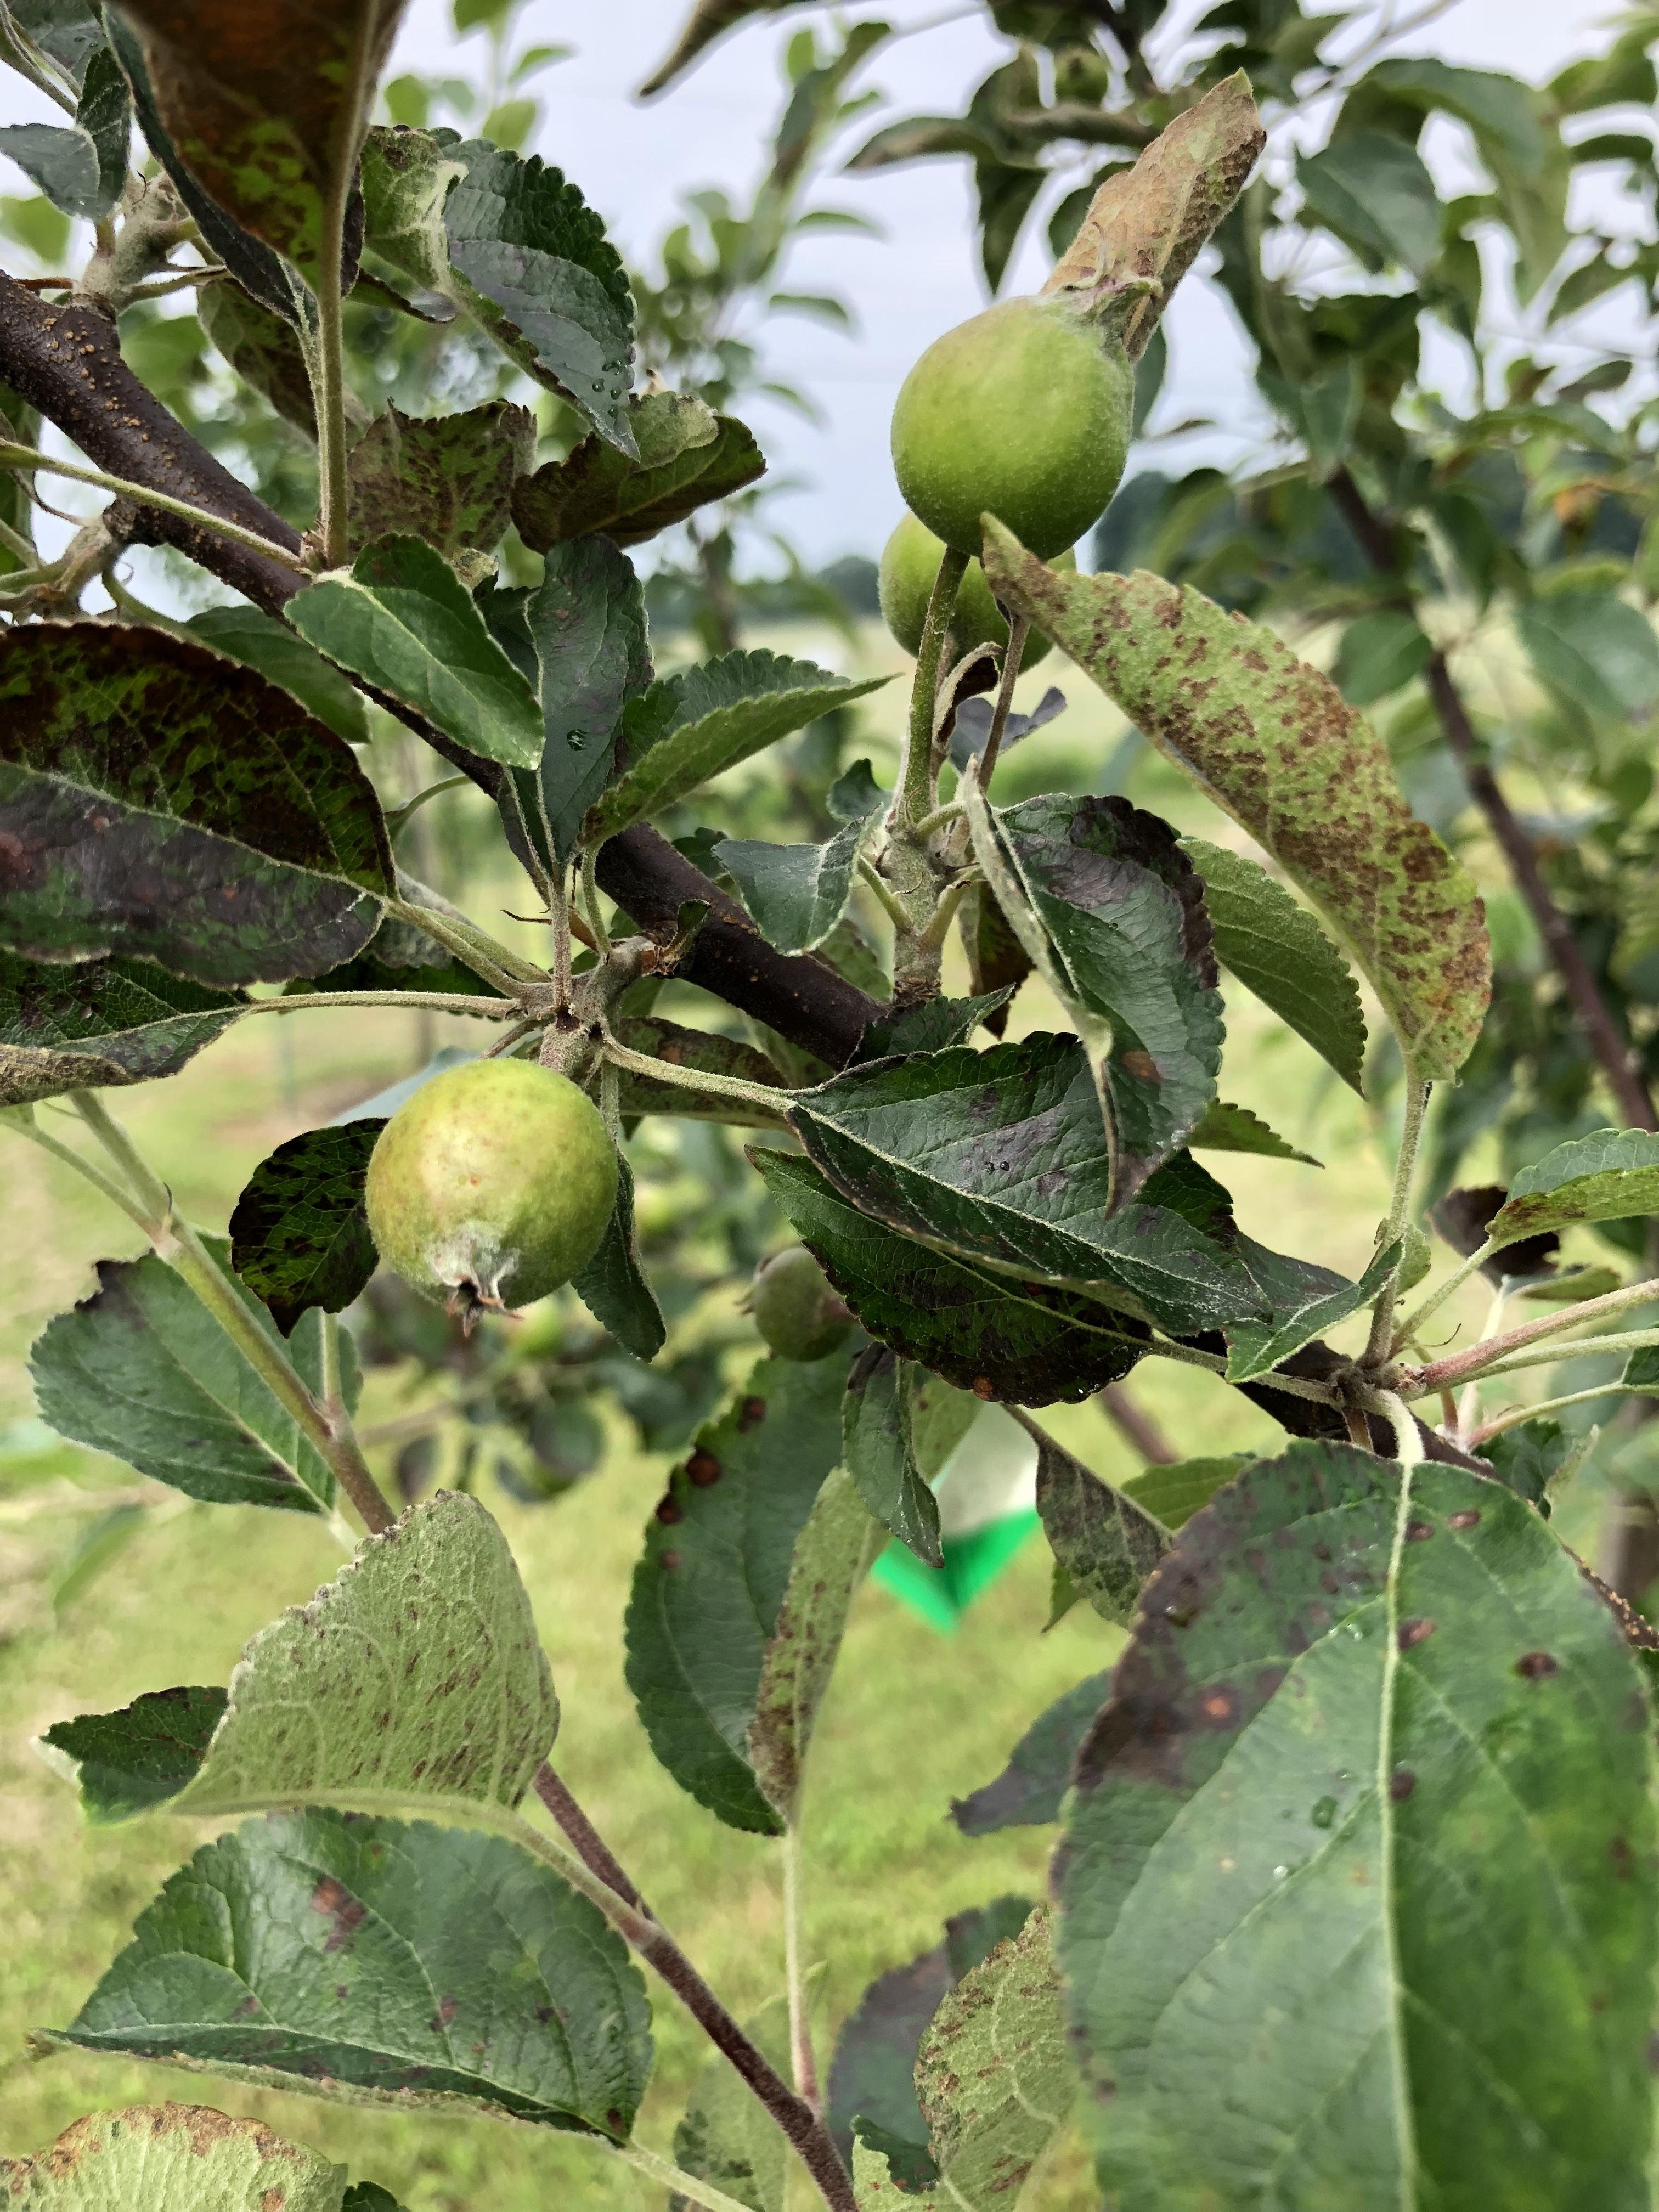Apple Scab Leaf: (1025, 1393, 1659, 2207), (953, 495, 1537, 1141), (106, 1442, 631, 1892), (0, 592, 423, 1019), (1030, 75, 1291, 373)
